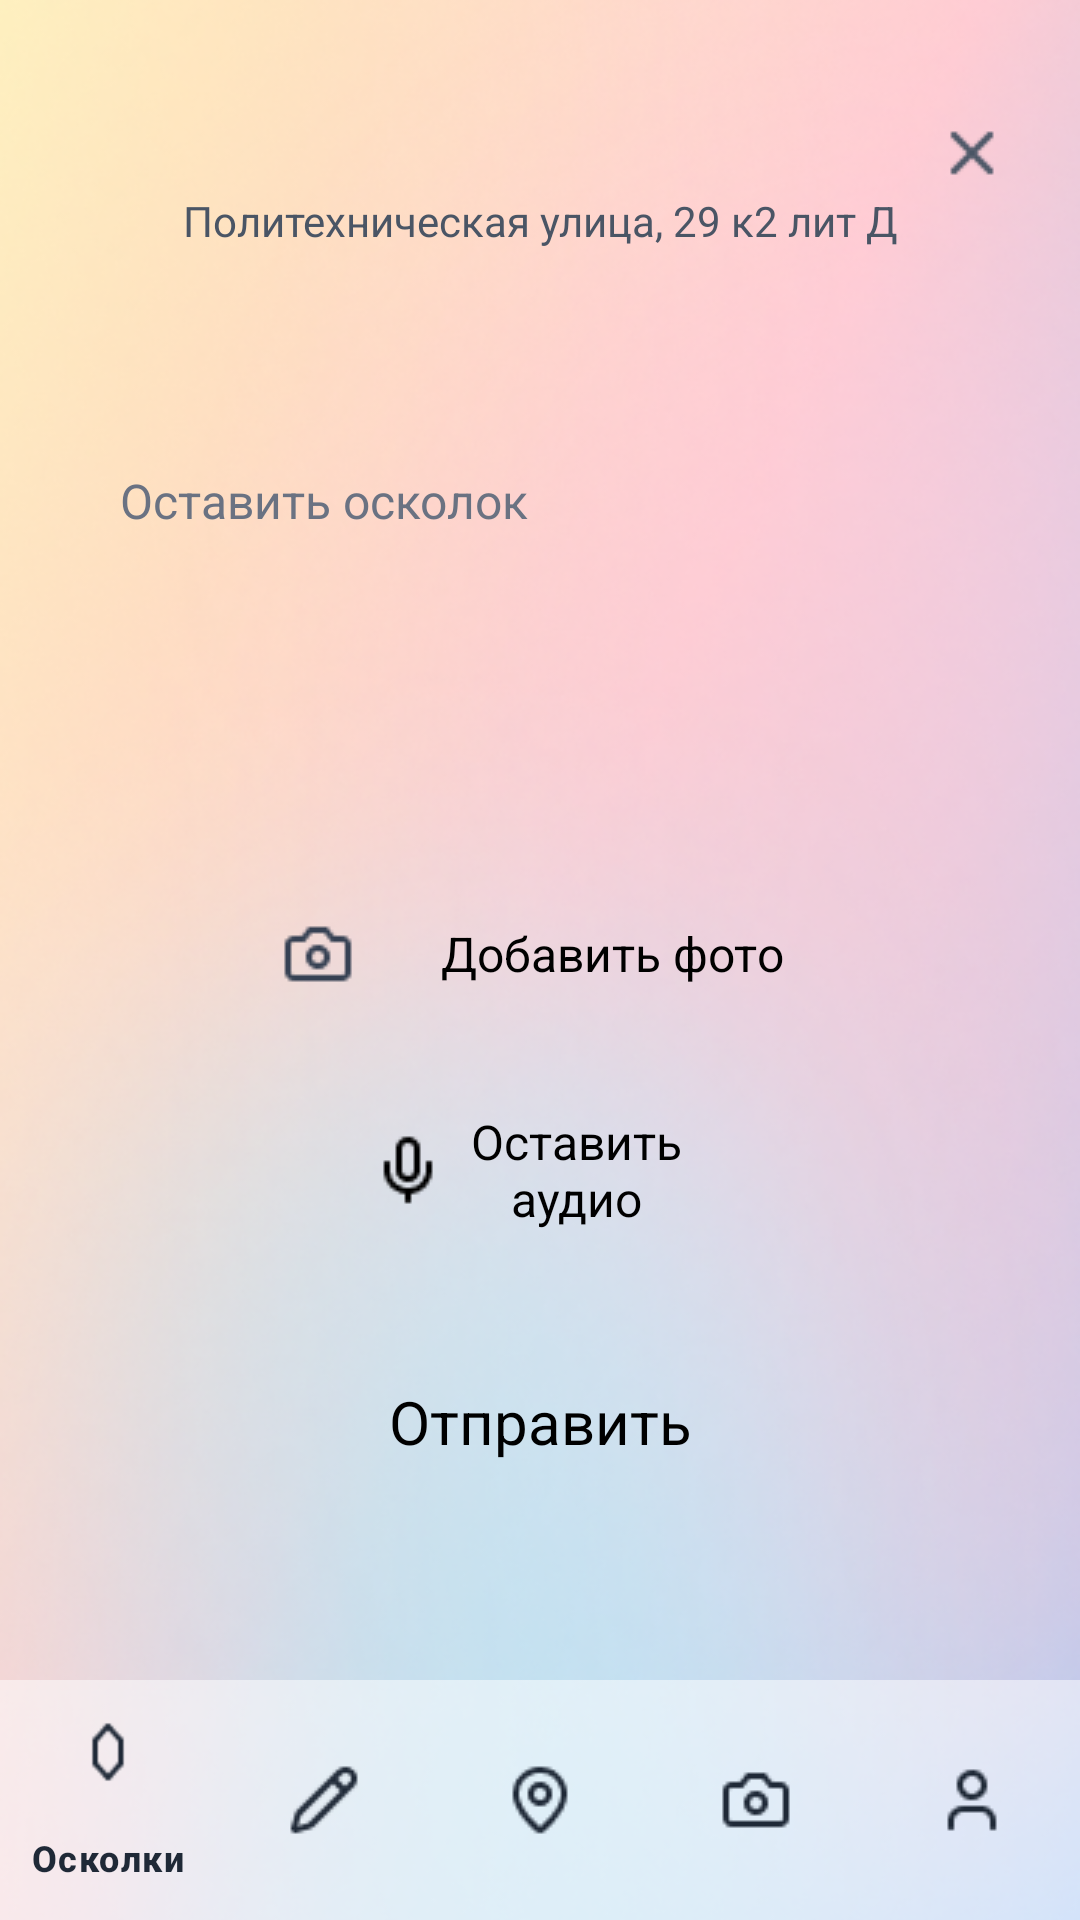

Icons on this 1080×1920 Android screen, each with the point to tap as (x=x, y=y):
exit: (x=972, y=153)
